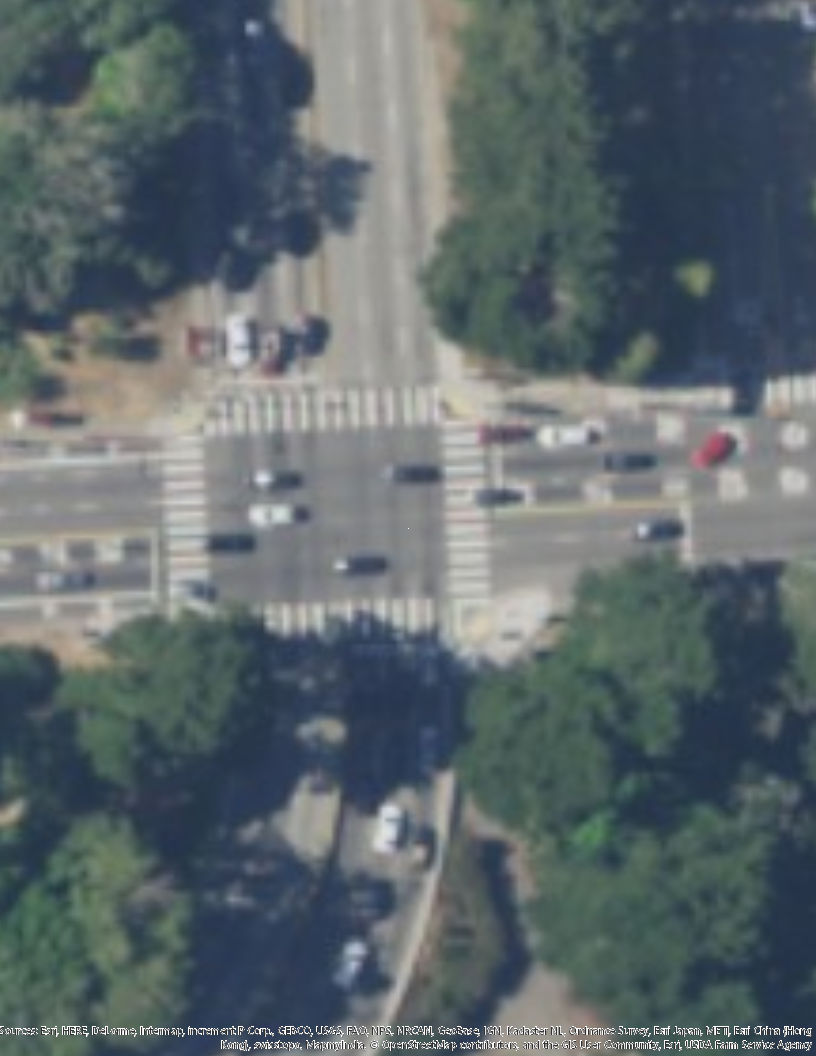zebracross: (201, 383, 445, 434), (162, 436, 210, 618), (442, 427, 491, 600), (252, 601, 444, 644)
